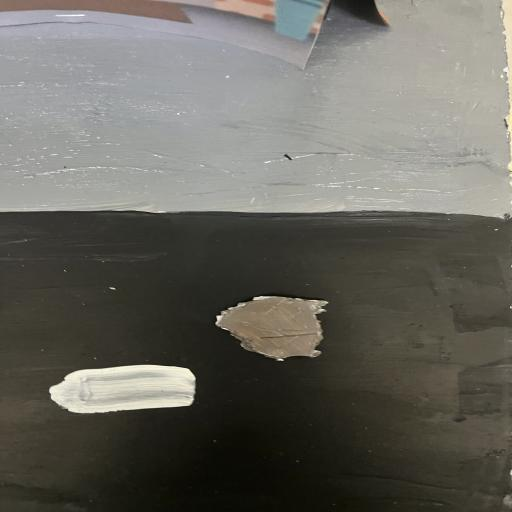porthole: (204, 293, 329, 364)
